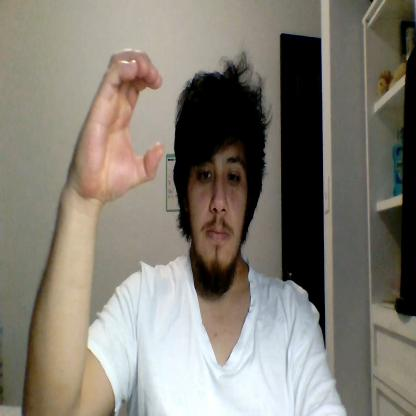C: (70, 49, 163, 199)
